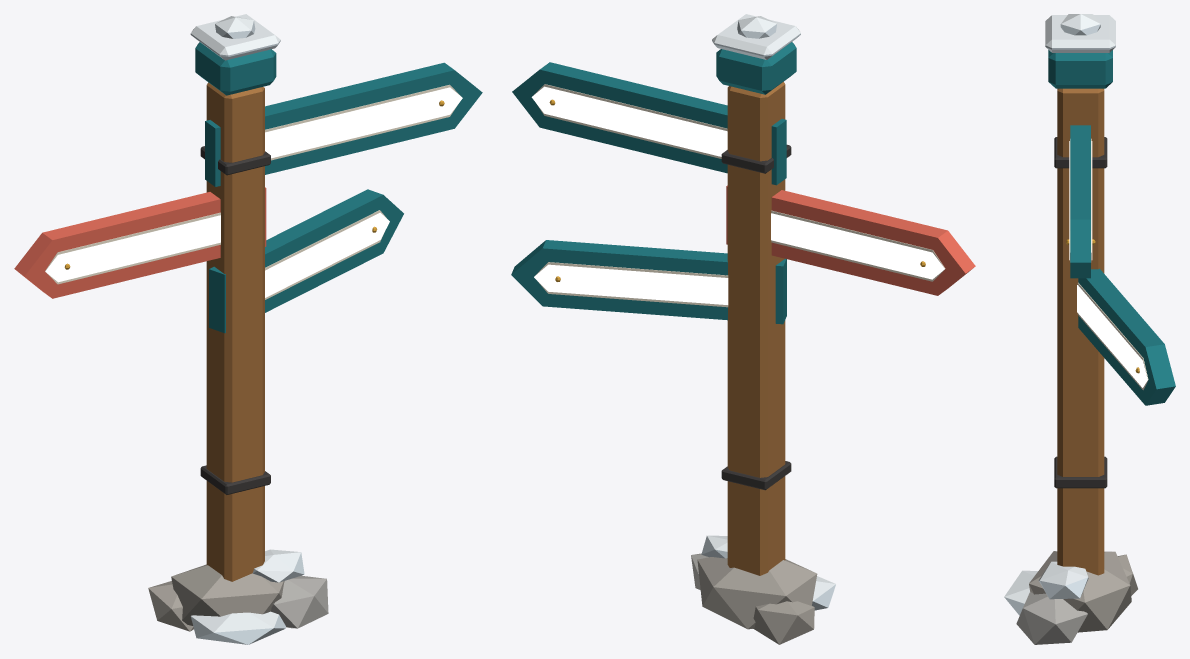
File: destination_signpost.glb
3 views of the same model, side by side, from view 1: azimuth 30°, elevation 25°; view 2: azimuth 150°, elevation 25°; view 3: azimuth 270°, elevation 25° (orthographic).
Parts seen in each view (by area): view 1: destination_signpost, part_arrow_0, part_arrow_1, part_arrow_2; view 2: destination_signpost, part_arrow_0, part_arrow_2, part_arrow_1; view 3: destination_signpost, part_arrow_2, part_arrow_0.
Boxes of the visible parts, x1,y1,x2,y2 form: destination_signpost: [148, 14, 328, 644]; part_arrow_0: [205, 62, 482, 186]; part_arrow_1: [14, 187, 266, 298]; part_arrow_2: [209, 189, 403, 333]; destination_signpost: [691, 14, 835, 644]; part_arrow_0: [512, 62, 786, 185]; part_arrow_2: [511, 240, 786, 324]; part_arrow_1: [726, 185, 975, 295]; destination_signpost: [1004, 14, 1137, 644]; part_arrow_2: [1077, 268, 1175, 405]; part_arrow_0: [1066, 125, 1095, 278].
Size of the model in its own units: 1.8 by 2.31 by 0.5844.
